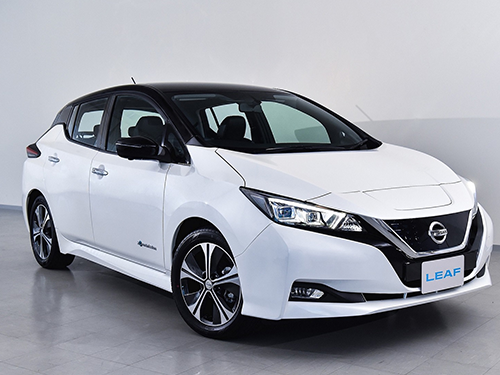sedan: (20, 81, 495, 338)
